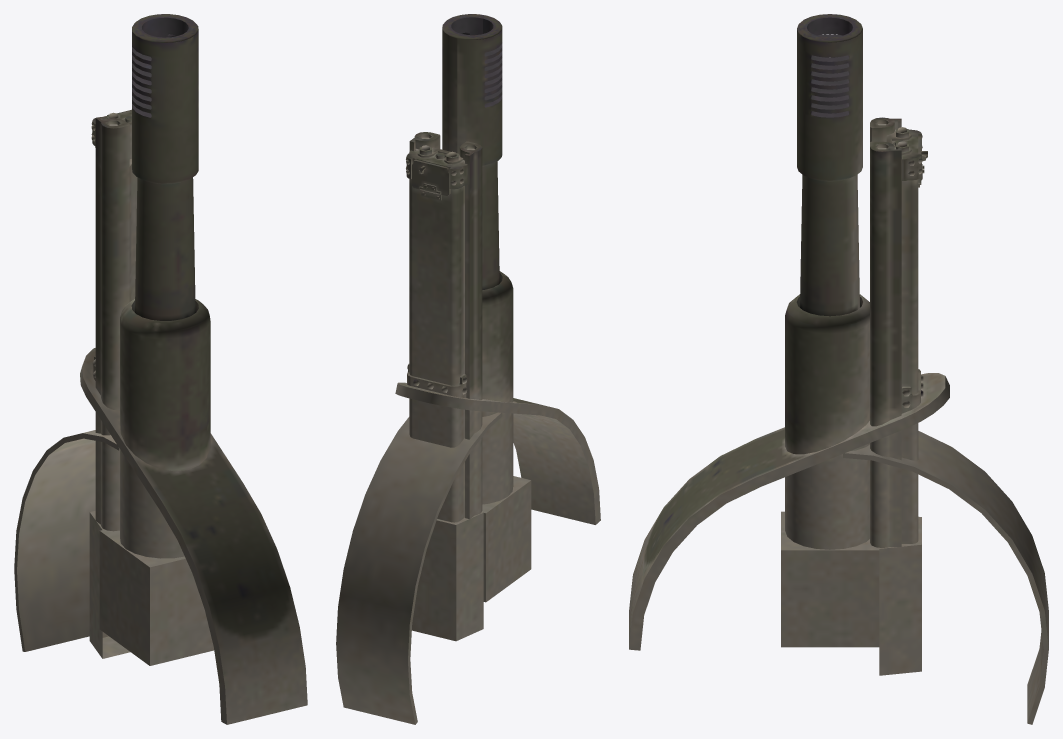
Rendered from Gun_01.glb.
3 views of the same model, side by side, from view 1: azimuth 30°, elevation 25°; view 2: azimuth 150°, elevation 25°; view 3: azimuth 270°, elevation 25° (orthographic). The views are drawn at different scales.
Parts seen in each view (by area): view 1: set_0_group_0; view 2: set_0_group_0; view 3: set_0_group_0.
Part boxes in pixels (box(x1,y1,x2,y2)): set_0_group_0: box(14, 14, 307, 724); set_0_group_0: box(336, 14, 600, 724); set_0_group_0: box(629, 14, 1048, 724).
Size of the model in its own units: 0.1877 by 1.53 by 0.8592.
1 material, 1 textured.
